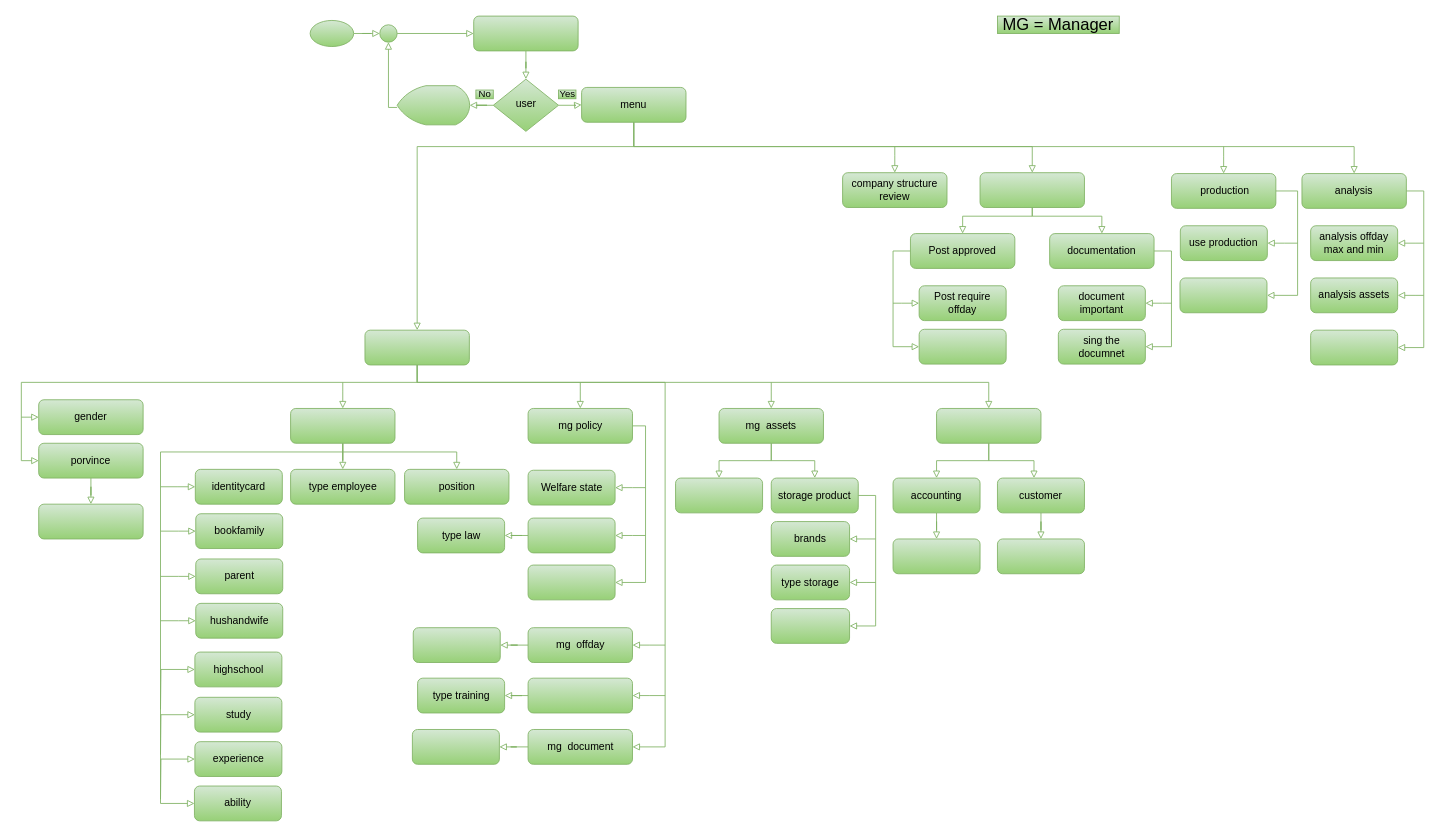
Some shapes in this 1446 by 836 pixel diagram are drawn without their labels. The shapes that lost their labels are listed below. From the top down, each one's centre as x and y in pixels, then its label:
the point at 525,33: Login
the point at 433,105: msg: error
the point at 1031,189: Internal Information
the point at 1223,295: expired production
the point at 416,347: Manager
the point at 962,346: Post at training staff
the point at 1354,347: analysis production
the point at 342,425: mg employee
the point at 988,425: mg account
the point at 719,495: type assets
the point at 90,521: district
the point at 571,535: law
the point at 936,556: type accounting
the point at 1040,556: type customer
the point at 571,582: plolicy
the point at 456,645: type offday
the point at 810,625: type product
the point at 579,695: mg training
the point at 455,746: type document
